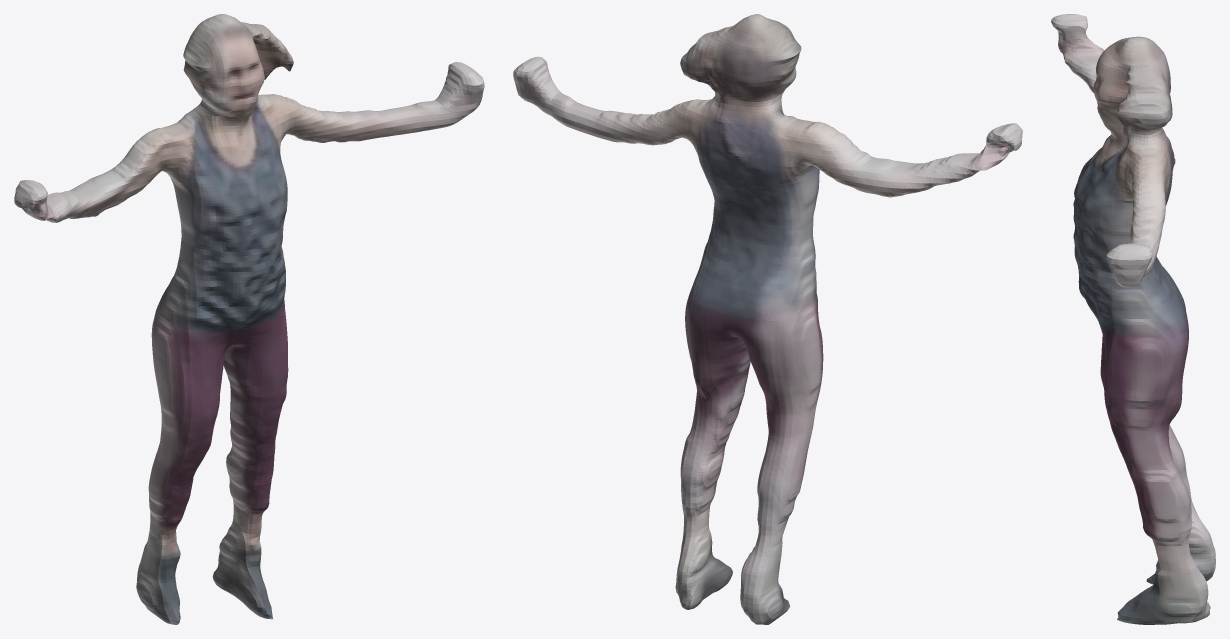
The model's file is 0088_tex.glb.
3 views of the same model, side by side, from view 1: azimuth 30°, elevation 25°; view 2: azimuth 150°, elevation 25°; view 3: azimuth 270°, elevation 25° (orthographic). The views are drawn at different scales.
Visible parts, largest first — view 1: 0088_tex.obj; view 2: 0088_tex.obj; view 3: 0088_tex.obj.
Boxes of the visible parts, bbox=[...] form: 0088_tex.obj: bbox=[14, 14, 484, 624]; 0088_tex.obj: bbox=[513, 14, 1022, 624]; 0088_tex.obj: bbox=[1051, 14, 1215, 624].
Size of the model in its own units: 0.757 by 0.8942 by 0.2355.
